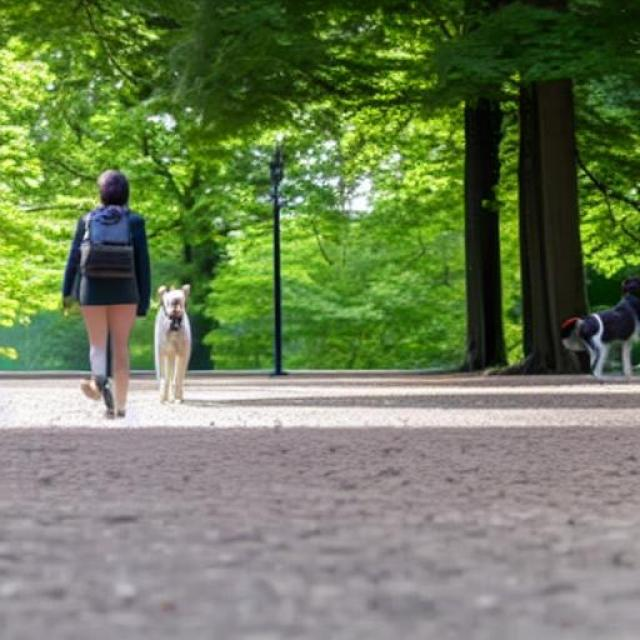Dog: (560, 275, 640, 381)
Unleashed_Dog: (81, 284, 192, 404)
